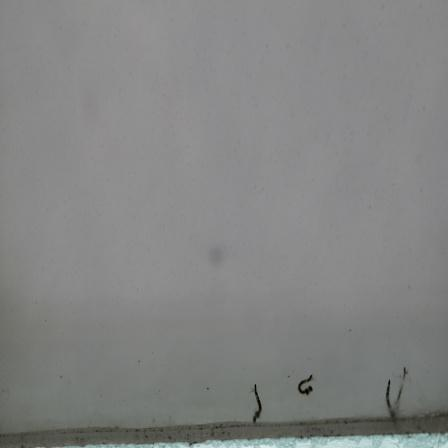Jentik-Nyamuk: (248, 380, 266, 424), (293, 371, 318, 401), (383, 377, 398, 422)
